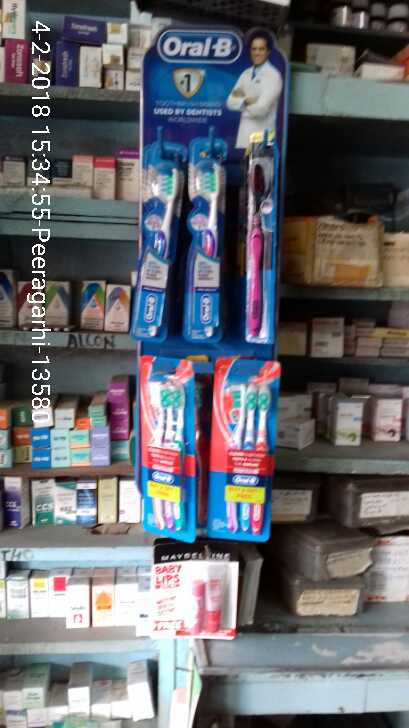oralb: (207, 356, 273, 542), (135, 354, 199, 542), (133, 141, 177, 338), (189, 137, 225, 337), (245, 141, 275, 342)
